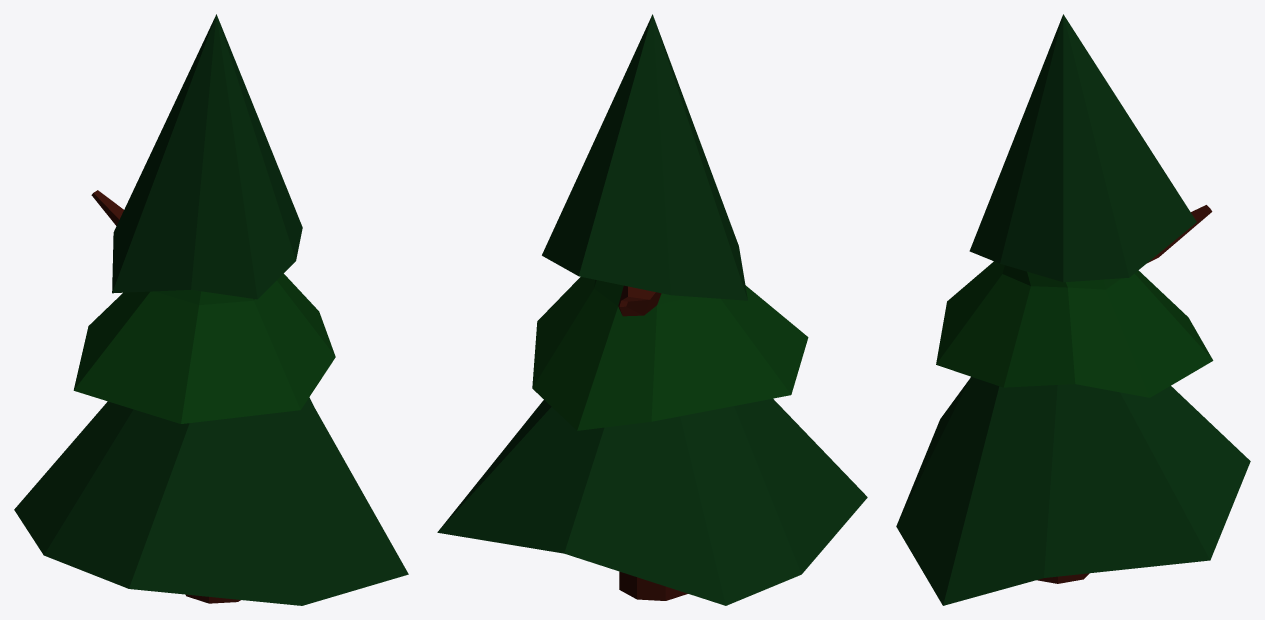
Rendered from conifer_2.fbx.
3 renders of one model, left to right at view 1: azimuth 30°, elevation 25°; view 2: azimuth 150°, elevation 25°; view 3: azimuth 270°, elevation 25°, orthographic. The views are drawn at different scales.
Parts seen in each view (by area): view 1: Cone.003; view 2: Cone.003; view 3: Cone.003.
Part boxes in pixels (bbox=[...]): Cone.003: bbox=[14, 14, 408, 605]; Cone.003: bbox=[437, 14, 867, 605]; Cone.003: bbox=[896, 14, 1250, 605].
Size of the model in its own units: 731 by 1334 by 772.
